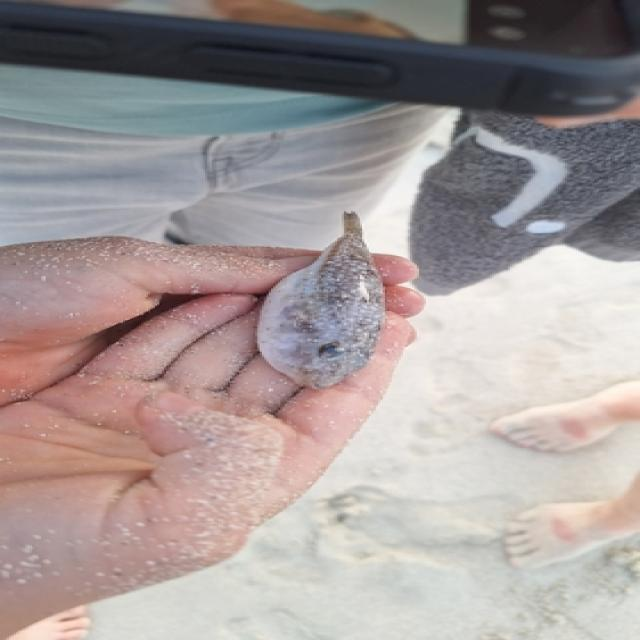Balik: (258, 213, 384, 387)
